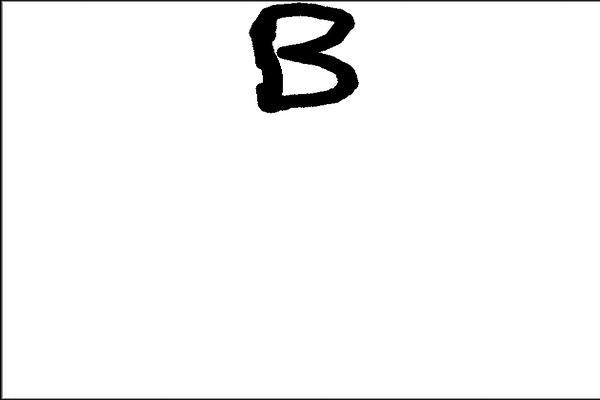B: (241, 1, 367, 120)
